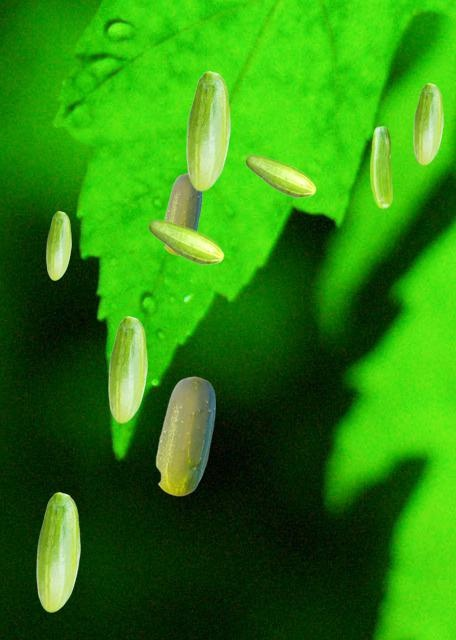cucumber: (155, 376, 214, 495), (36, 492, 79, 611), (186, 71, 229, 190), (108, 316, 146, 422), (148, 219, 223, 264), (163, 173, 201, 254), (245, 154, 315, 197), (413, 83, 442, 164), (370, 126, 391, 207), (46, 211, 70, 279)
